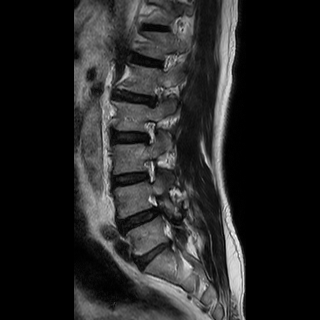LFS0: (139, 151, 161, 188), (138, 117, 160, 148)
